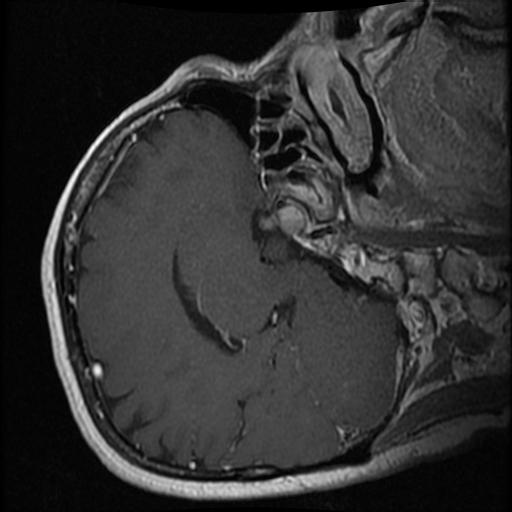pituitary tumour: (258, 206, 300, 231)
